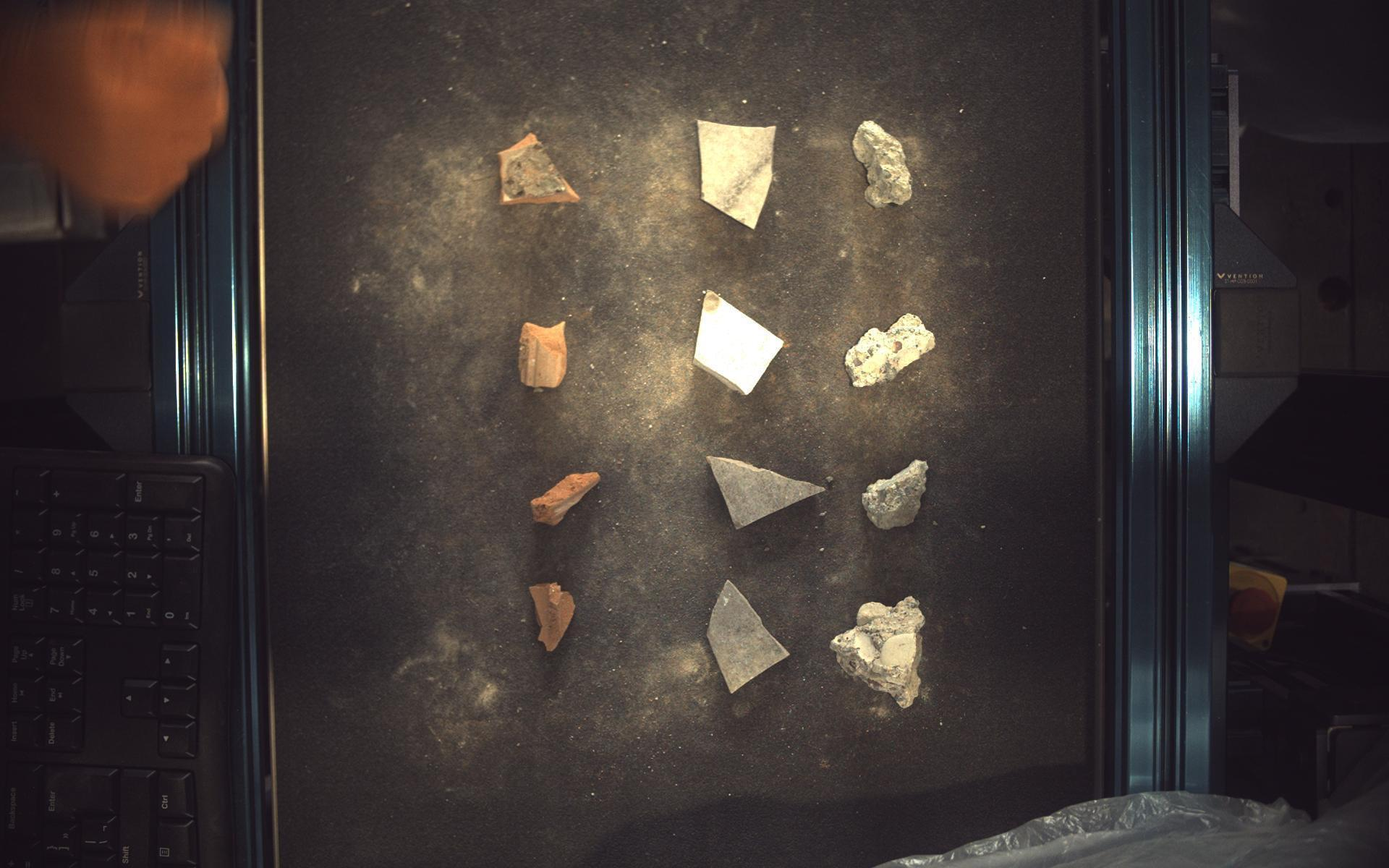brick: (498, 132, 581, 204), (531, 473, 599, 526), (519, 321, 568, 389), (530, 584, 575, 653)
concrete: (833, 597, 927, 710), (846, 313, 936, 387), (854, 119, 913, 207), (864, 461, 930, 530)
tile: (696, 290, 786, 395), (708, 581, 791, 694), (709, 456, 827, 529), (699, 119, 777, 228)
